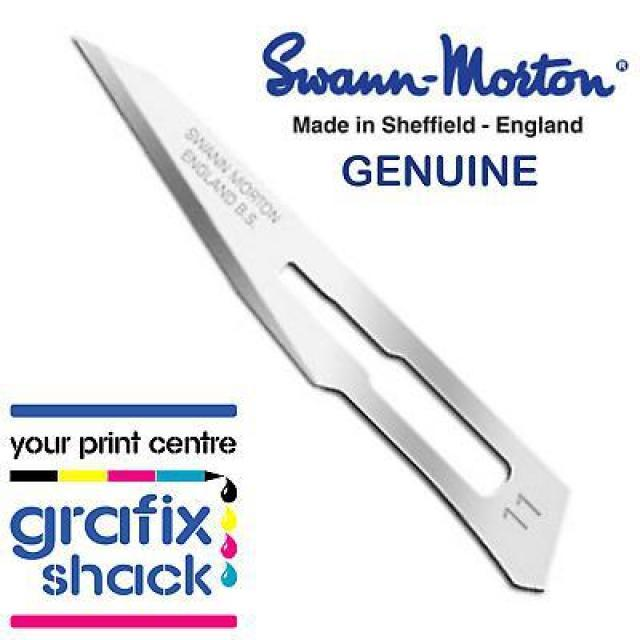Scalpel: (64, 31, 573, 598)
